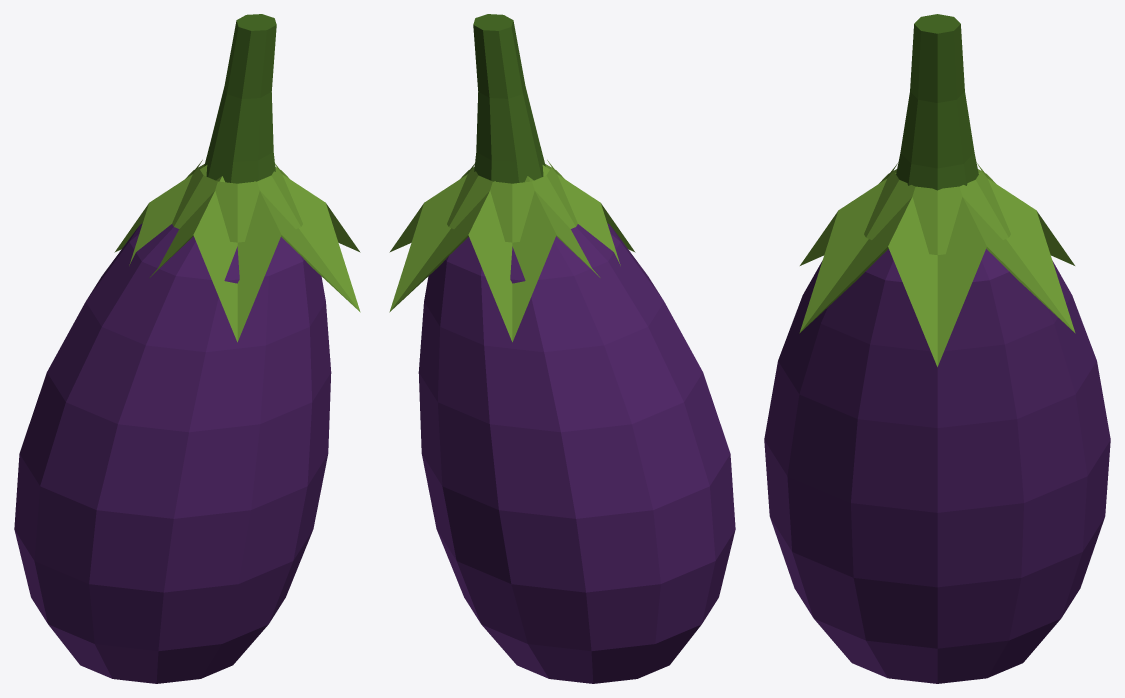
Rendered from eggplant-0a3892.glb.
3 renders of one model, left to right at view 1: azimuth 30°, elevation 25°; view 2: azimuth 150°, elevation 25°; view 3: azimuth 270°, elevation 25°, orthographic. The views are drawn at different scales.
Parts seen in each view (by area): view 1: eggplant; view 2: eggplant; view 3: eggplant.
Boxes of the visible parts, x1,y1,x2,y2 form: eggplant: [14, 14, 360, 683]; eggplant: [389, 14, 735, 683]; eggplant: [764, 14, 1110, 683].
Size of the model in its own units: 0.1537 by 0.28 by 0.126.
